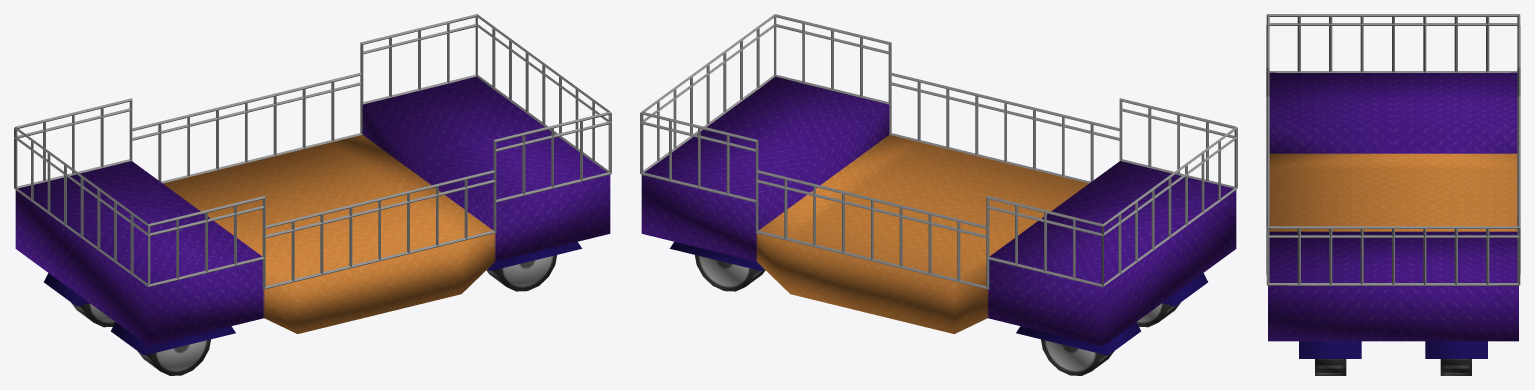
File: palco.fbx
3 renders of one model, left to right at view 1: azimuth 30°, elevation 25°; view 2: azimuth 150°, elevation 25°; view 3: azimuth 270°, elevation 25°, orthographic. The views are drawn at different scales.
Parts seen in each view (by area): view 1: palco01, grade; view 2: palco01, grade; view 3: palco01, grade.
Boxes of the visible parts, bbox=[...] form: palco01: bbox=[15, 76, 610, 375]; grade: bbox=[14, 14, 611, 289]; palco01: bbox=[641, 76, 1236, 375]; grade: bbox=[640, 14, 1237, 289]; palco01: bbox=[1268, 72, 1518, 375]; grade: bbox=[1266, 14, 1520, 285].
Size of the model in its own units: 805 by 305 by 405.
Materials: 2 (1 with a texture image).
